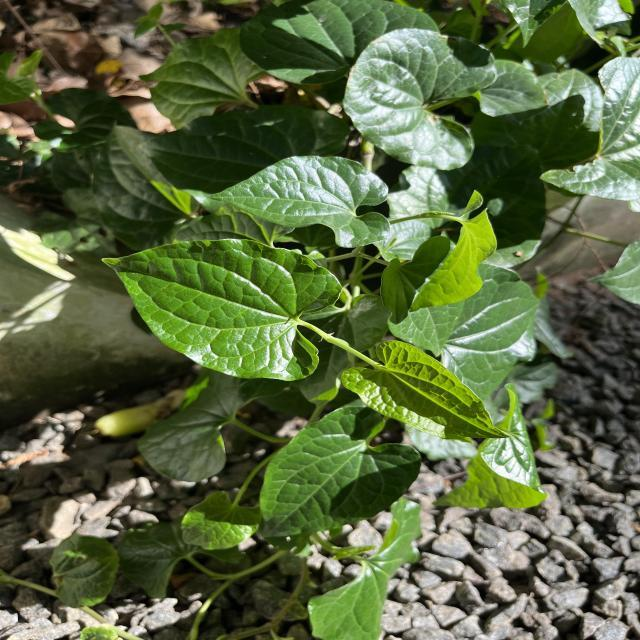Piper longum: (96, 237, 344, 383), (206, 152, 394, 250), (339, 338, 512, 444)
